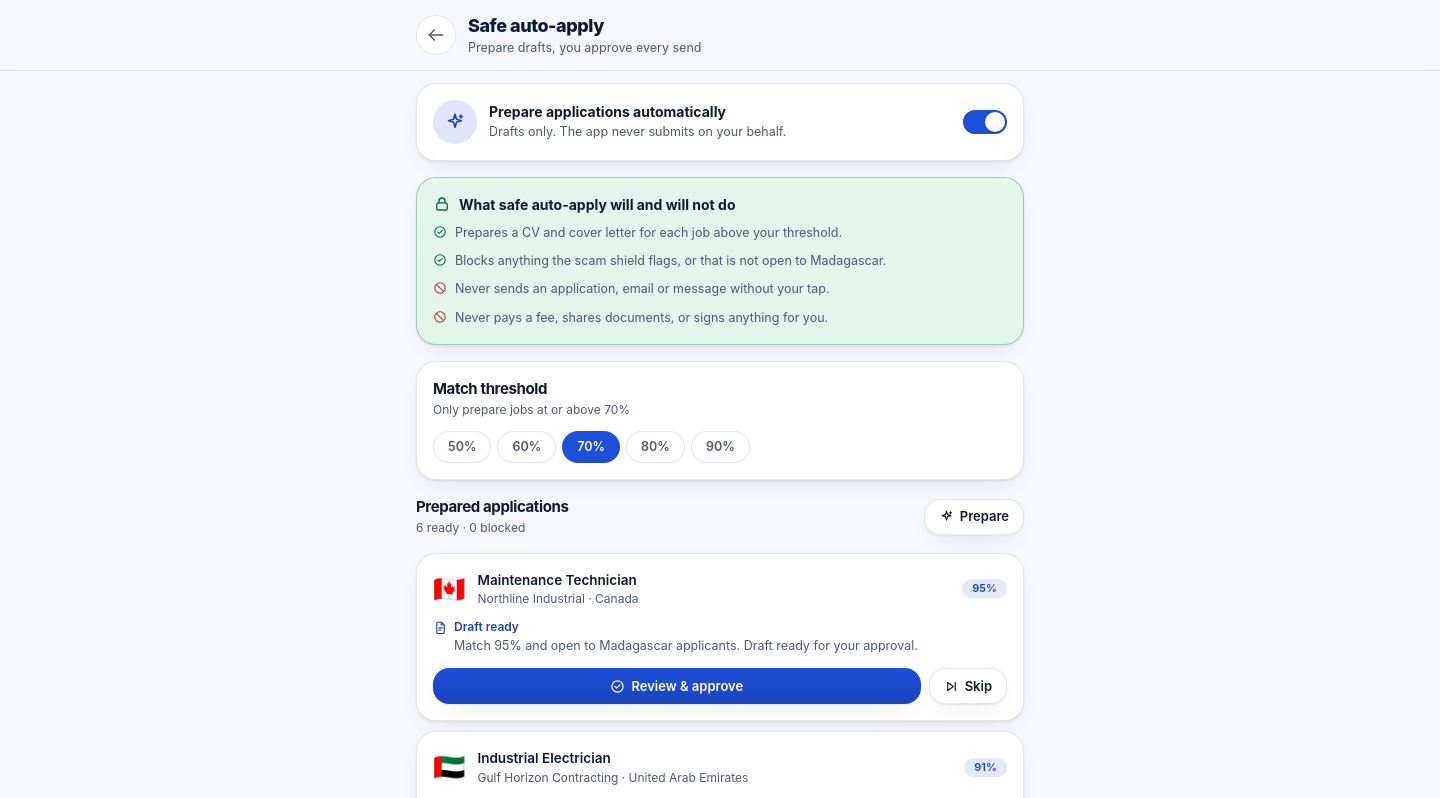
Test: AutoApplyScreen › marks a draft approved without claiming it was sent
What coordinates should you click on to do the following:
click the button "Review & approve"
I would click on:
 (677, 686)
Its box is x1=433 y1=668 x2=921 y2=704.
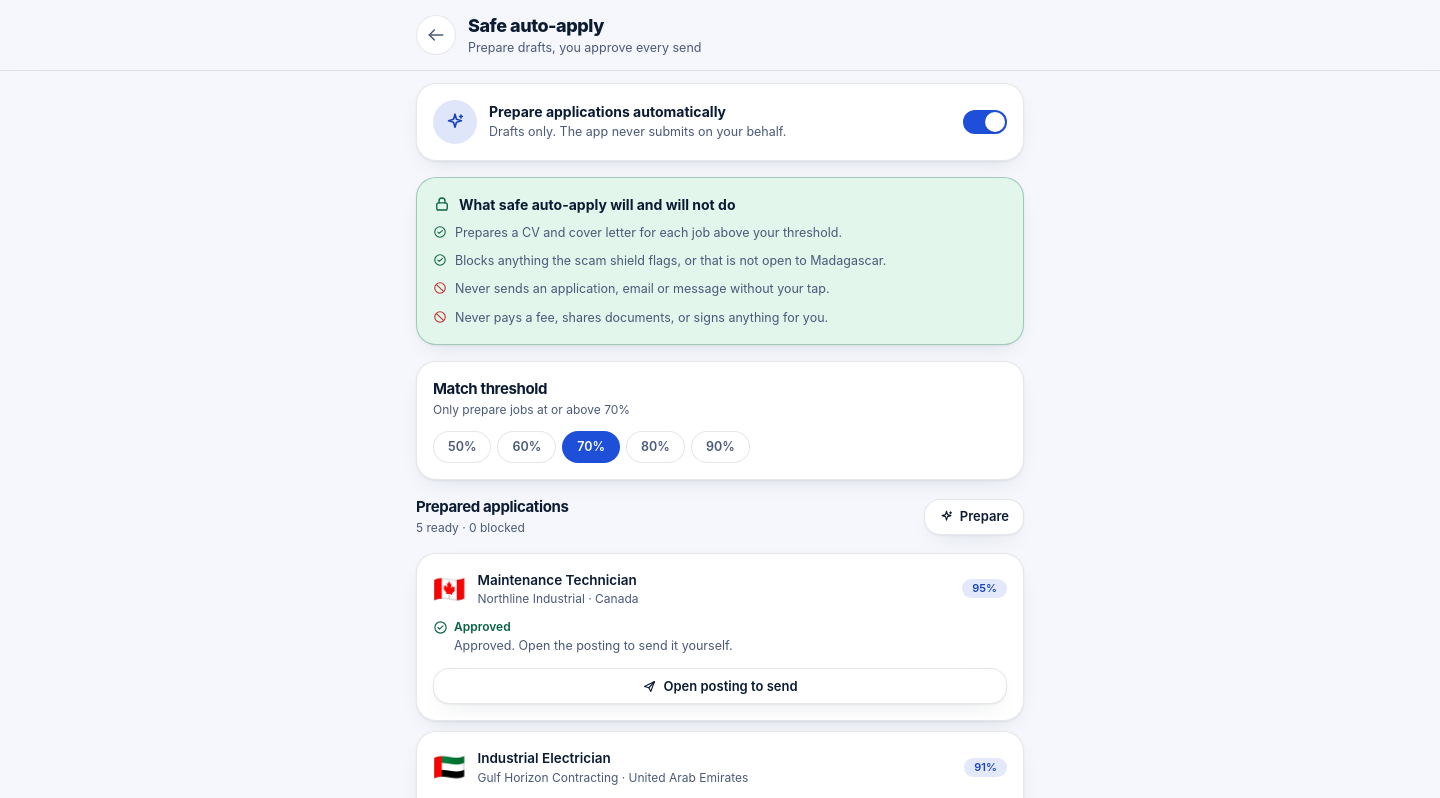
Expected: the text "Approved" is shown, x1=454 y1=619 x2=511 y2=634
Expected: the text "Open posting to send" is shown, x1=664 y1=677 x2=798 y2=696
